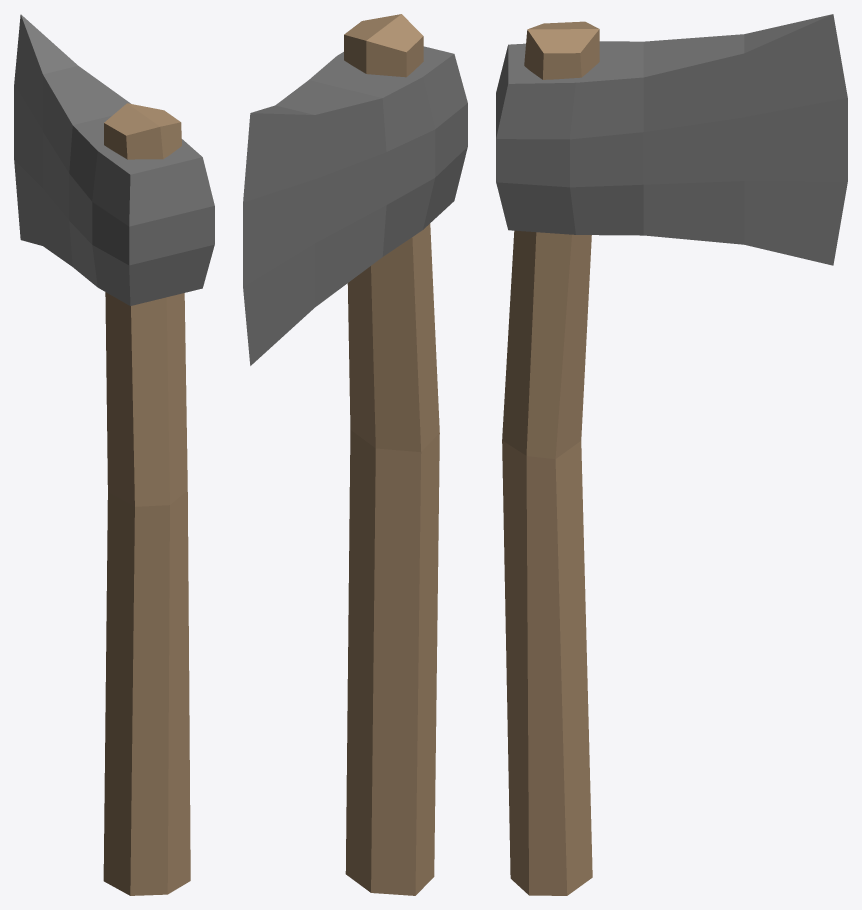
The model's file is enchantedforest_hatchet.fbx.
The picture shows the model from 3 angles, left to right: view 1: azimuth 30°, elevation 25°; view 2: azimuth 150°, elevation 25°; view 3: azimuth 270°, elevation 25°; orthographic projection. The views are drawn at different scales.
Parts seen in each view (by area): view 1: Cube.030; view 2: Cube.030; view 3: Cube.030.
Boxes of the visible parts, box(x1,y1,x2,y2) form: Cube.030: box(14, 14, 214, 895); Cube.030: box(243, 14, 467, 895); Cube.030: box(496, 14, 847, 895).
Bounding box in the file's own units: 0.0752 × 0.5964 × 0.2202.
